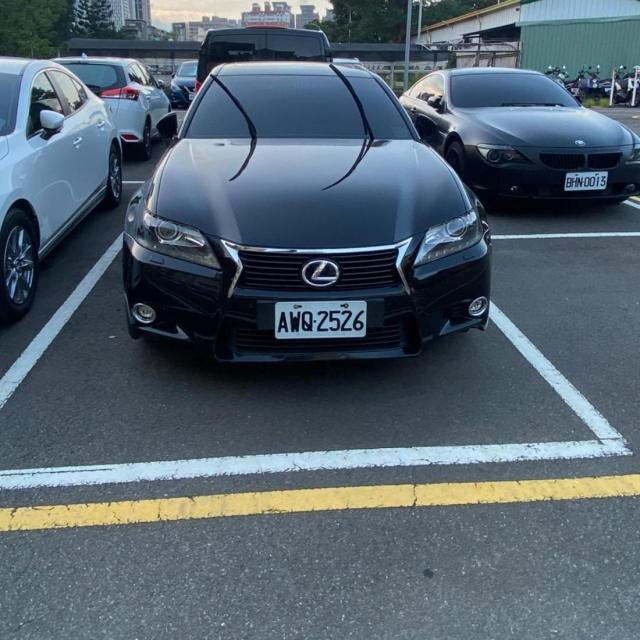W: (274, 299, 367, 339), (564, 171, 608, 190)
